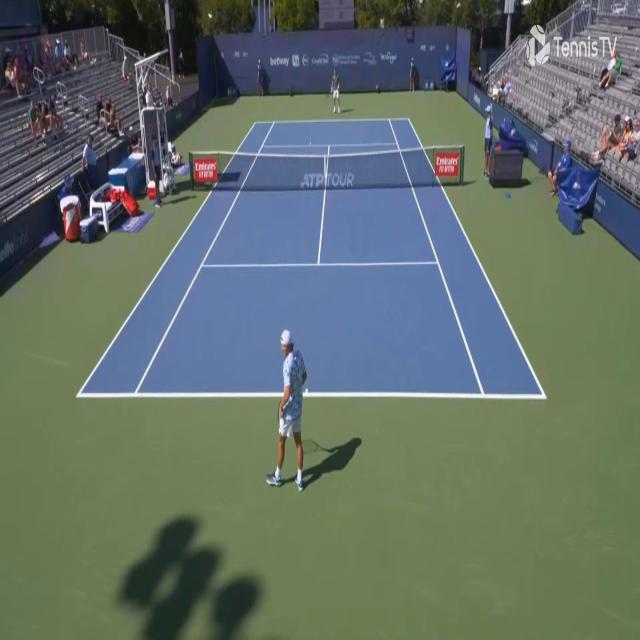tennis-player: (267, 326, 322, 497), (330, 63, 342, 115)
